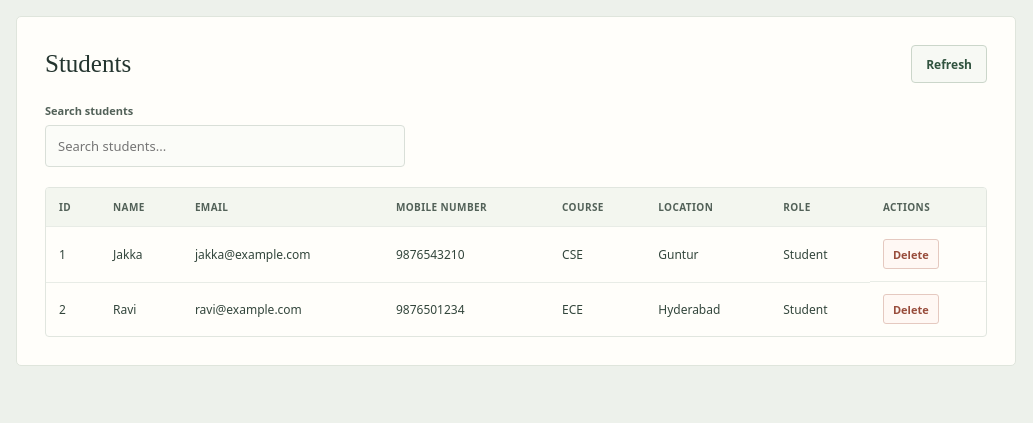
StudentsTable › shows an error when deleting a student fails
This screenshot has width=1033, height=423.
expect the text "Jakka" is shown: met, box [100, 226, 182, 282]
Click the button "Delete" in the row of "jakka@example.com". click: (911, 254)
box: [883, 239, 939, 269]
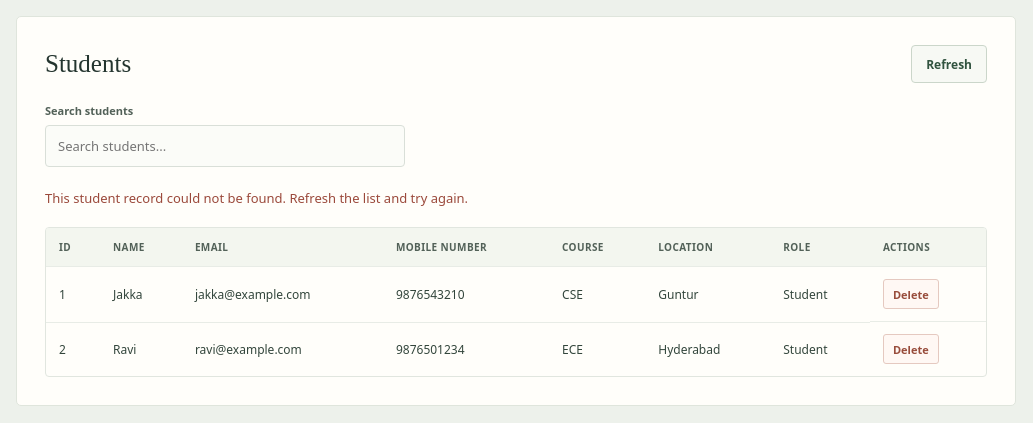
expect the text "This student record could not be found. Refresh the list and try again." is shown: met, box [45, 189, 468, 207]
